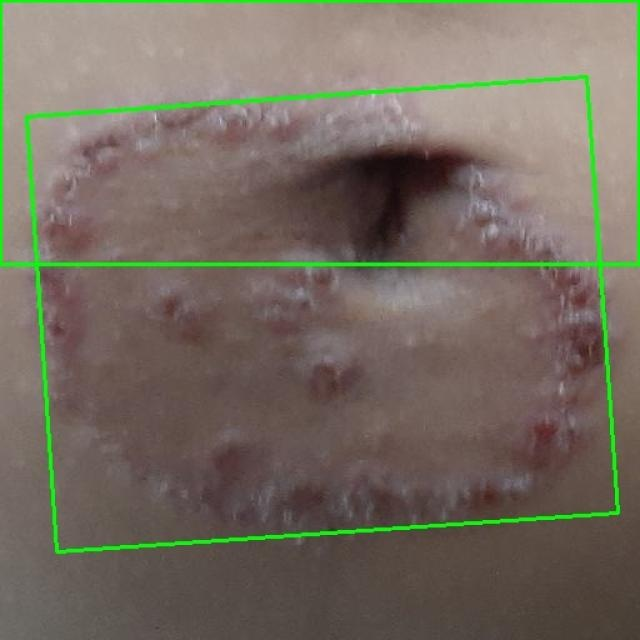Tinea Corporis: (26, 77, 618, 552), (0, 0, 639, 264)
